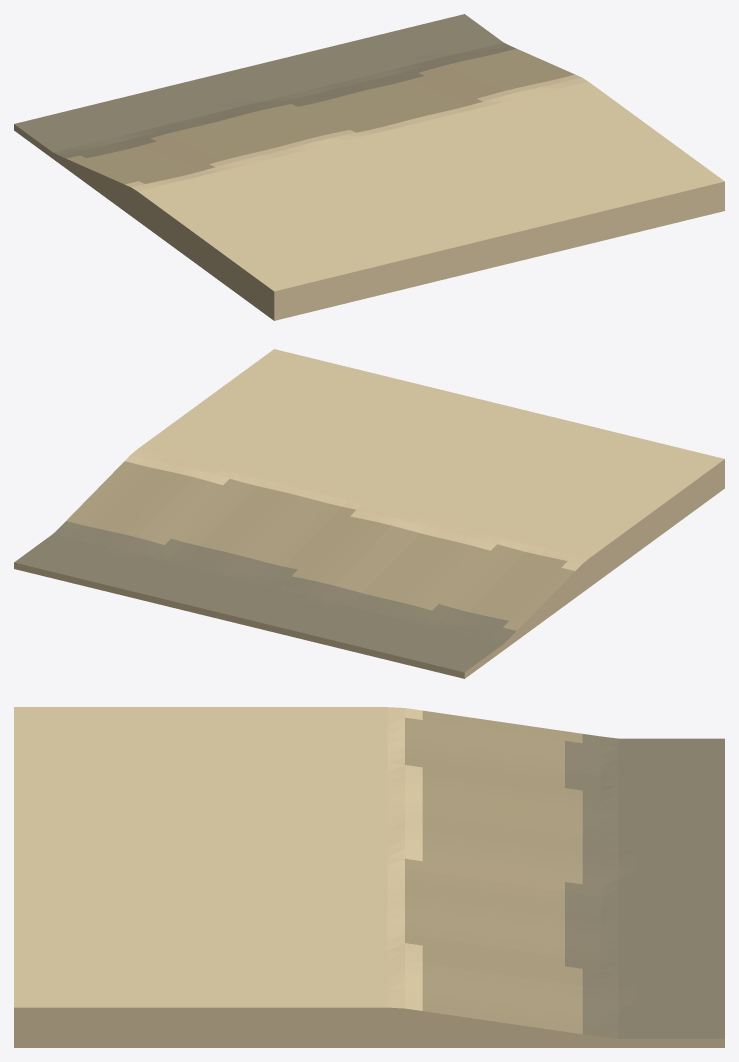
The model's file is sloped_beach_module.glb.
3 renders of one model, top to bottom at view 1: azimuth 30°, elevation 25°; view 2: azimuth 150°, elevation 25°; view 3: azimuth 270°, elevation 25°, orthographic. The views are drawn at different scales.
Parts seen in each view (by area): view 1: tidal_sand_sand, tidal_sand_seabed, tidal_terrain_skirt, tidal_sand_wet_sand; view 2: tidal_sand_sand, tidal_sand_wet_sand, tidal_sand_seabed, tidal_terrain_skirt; view 3: tidal_sand_sand, tidal_sand_wet_sand, tidal_sand_seabed, tidal_terrain_skirt.
Part boxes in pixels (x1=…): tidal_sand_sand: x1=125, y1=74, x2=724, y2=291; tidal_sand_seabed: x1=14, y1=14, x2=516, y2=158; tidal_terrain_skirt: x1=14, y1=124, x2=724, y2=320; tidal_sand_wet_sand: x1=66, y1=48, x2=574, y2=184; tidal_sand_sand: x1=125, y1=349, x2=724, y2=570; tidal_sand_wet_sand: x1=66, y1=461, x2=574, y2=630; tidal_sand_seabed: x1=14, y1=521, x2=516, y2=672; tidal_terrain_skirt: x1=14, y1=459, x2=724, y2=678; tidal_sand_sand: x1=14, y1=707, x2=422, y2=1010; tidal_sand_wet_sand: x1=405, y1=710, x2=582, y2=1034; tidal_sand_seabed: x1=565, y1=734, x2=724, y2=1038; tidal_terrain_skirt: x1=14, y1=1007, x2=724, y2=1047.
Size of the model in its own units: 16 by 1 by 16.
